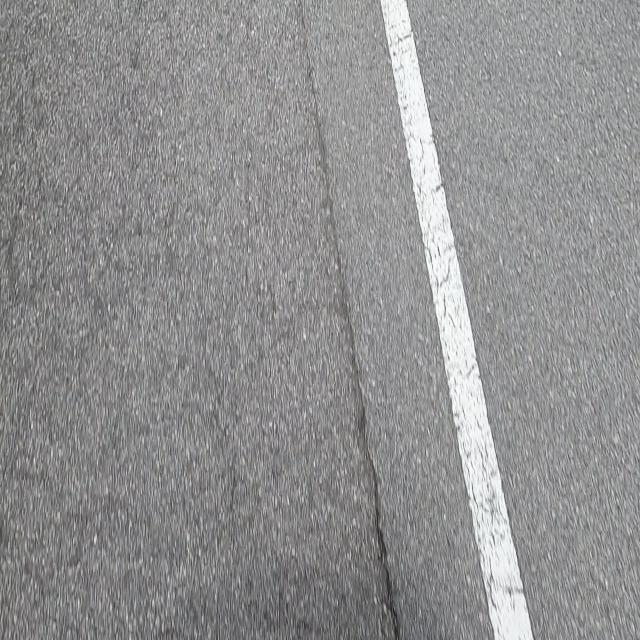Retak-Memanjang: (298, 1, 400, 640)
